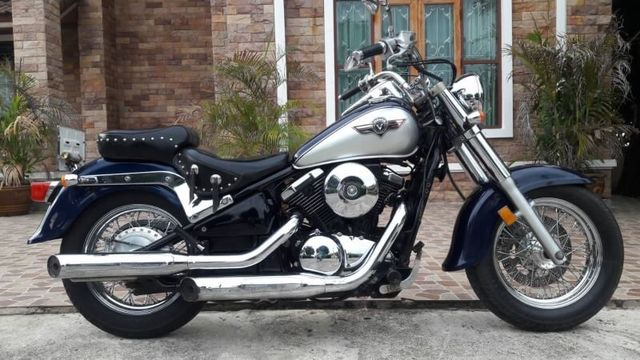motorcycle: (37, 37, 624, 330)
